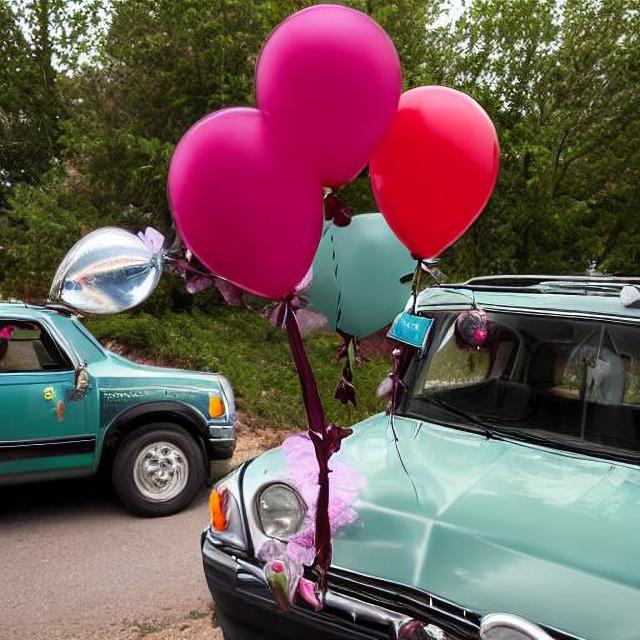balloon: (160, 9, 444, 328), (359, 83, 501, 259)
floating object: (34, 207, 200, 330)
